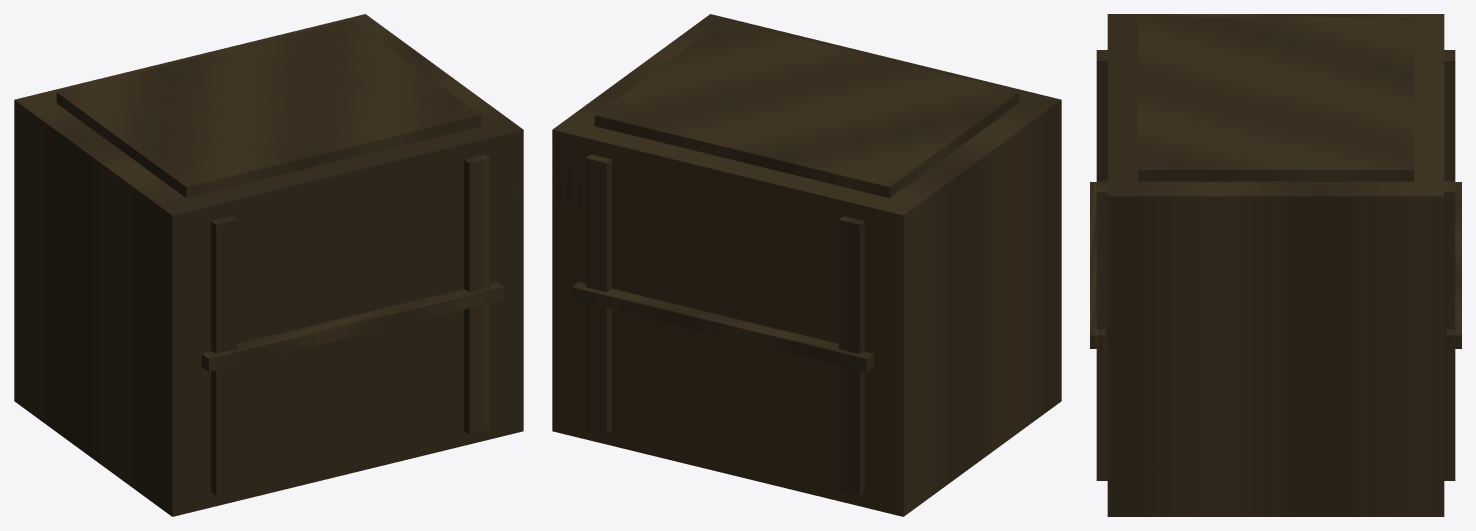
The model's file is prop_ammo_crate_wood_a.glb.
The picture shows the model from 3 angles, left to right: view 1: azimuth 30°, elevation 25°; view 2: azimuth 150°, elevation 25°; view 3: azimuth 270°, elevation 25°; orthographic projection. The views are drawn at different scales.
Parts seen in each view (by area): view 1: prop_ammo_crate_wood_a; view 2: prop_ammo_crate_wood_a; view 3: prop_ammo_crate_wood_a.
Boxes of the visible parts, x1,y1,x2,y2 form: prop_ammo_crate_wood_a: (14,14,523,516); prop_ammo_crate_wood_a: (552,14,1061,516); prop_ammo_crate_wood_a: (1090,14,1461,516).
Size of the model in its own units: 1 by 0.85 by 0.8618.
Materials: 1 (1 with a texture image).
